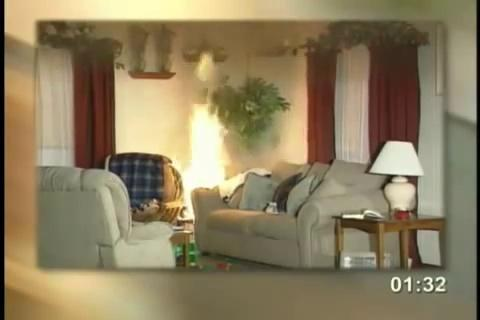fire: (163, 52, 242, 224)
